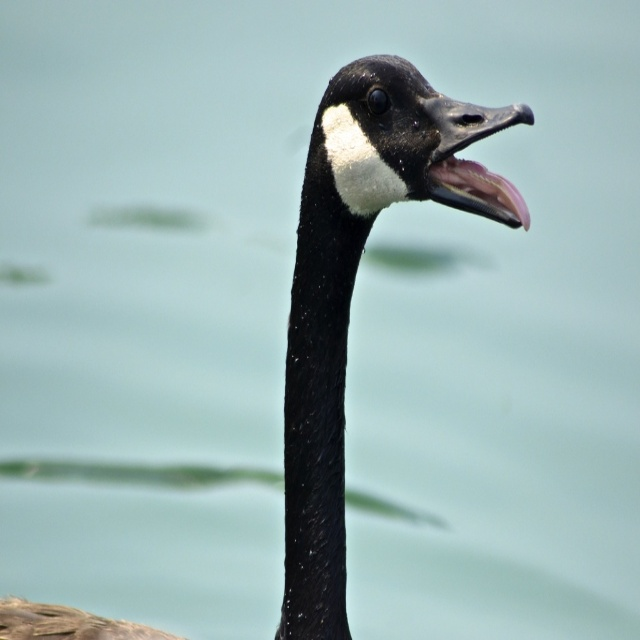Goose: (0, 47, 537, 639)
